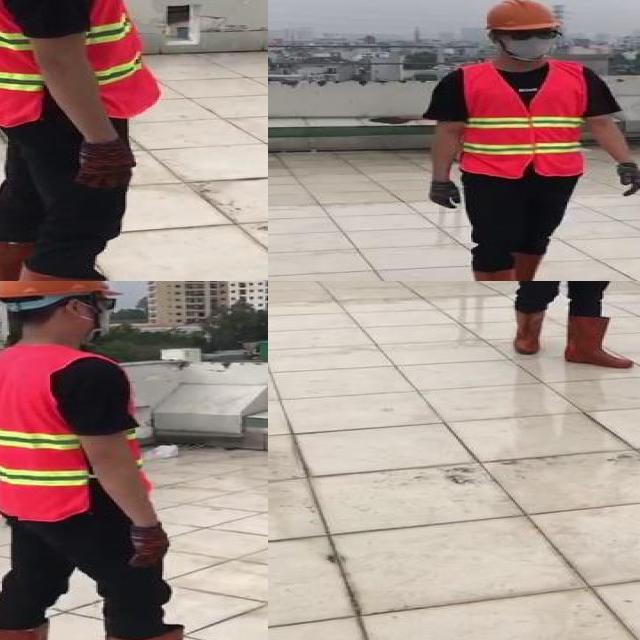boots: (0, 225, 92, 281), (565, 317, 632, 369), (511, 306, 545, 356), (511, 253, 556, 281)
face_mask: (504, 26, 557, 59)
glasses: (499, 26, 560, 42)
hand_glove: (76, 139, 138, 188), (124, 524, 172, 567), (427, 181, 462, 207), (615, 161, 640, 197)
head_helmet: (481, 0, 565, 32), (0, 281, 125, 301)
person: (0, 281, 241, 640), (412, 0, 640, 281), (0, 0, 195, 281), (484, 281, 640, 376)
vest: (0, 343, 147, 519), (0, 0, 157, 124), (460, 57, 590, 177)
